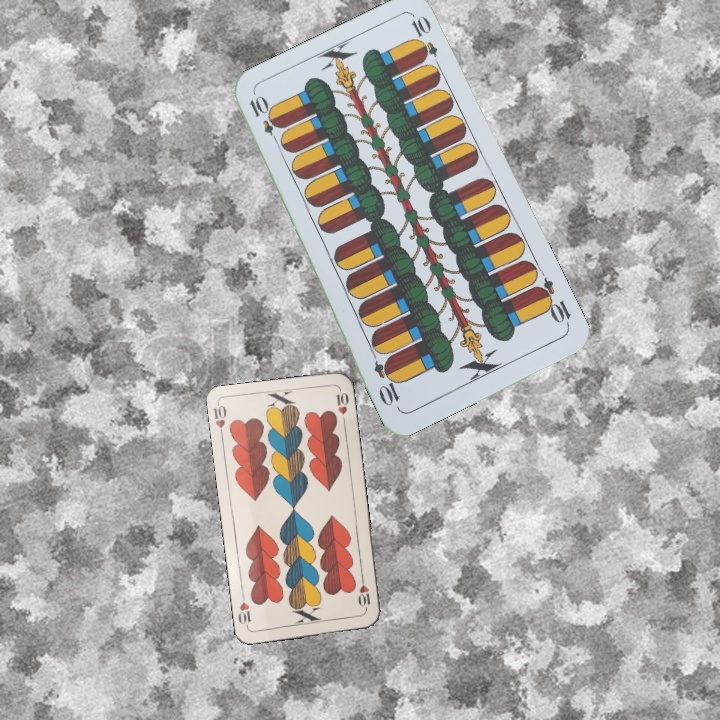E10: (531, 274, 574, 329), (245, 92, 284, 148)
H10: (210, 401, 229, 441), (355, 573, 373, 614)
